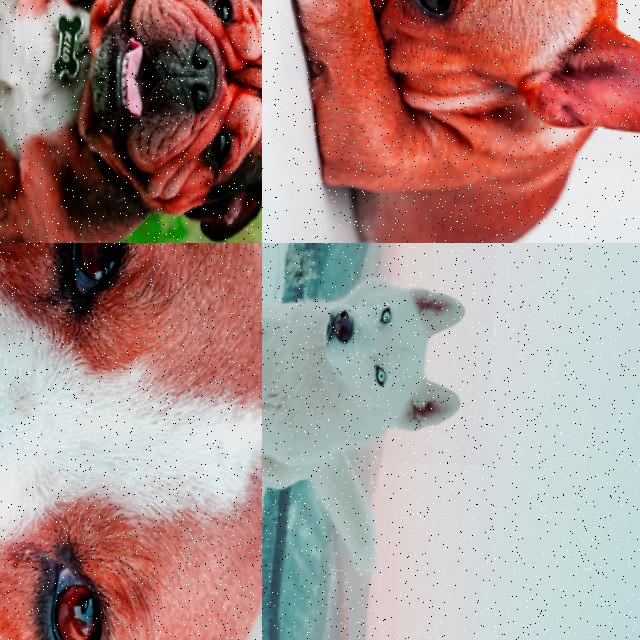beagle: (0, 243, 262, 640)
bulldog: (262, 0, 640, 180), (42, 0, 262, 243)
husky: (279, 243, 498, 470)
